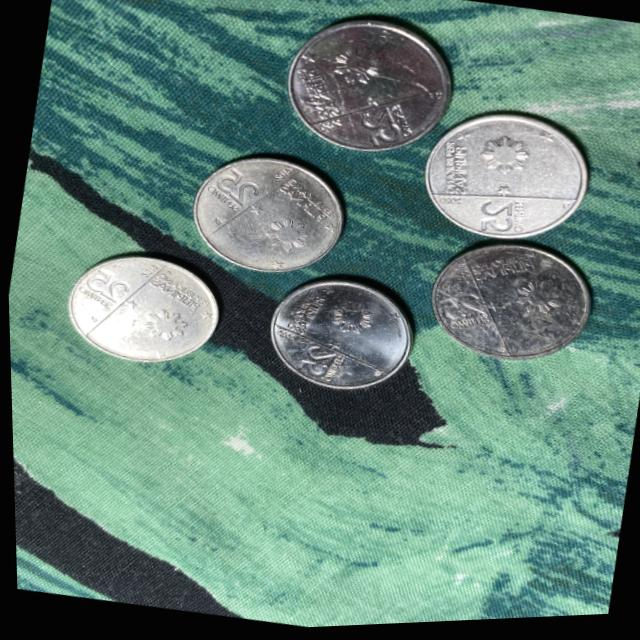25Cent_New_Front: (433, 289, 489, 333), (210, 167, 261, 214), (291, 339, 341, 386), (356, 107, 402, 155), (79, 266, 133, 306), (470, 199, 519, 243)
